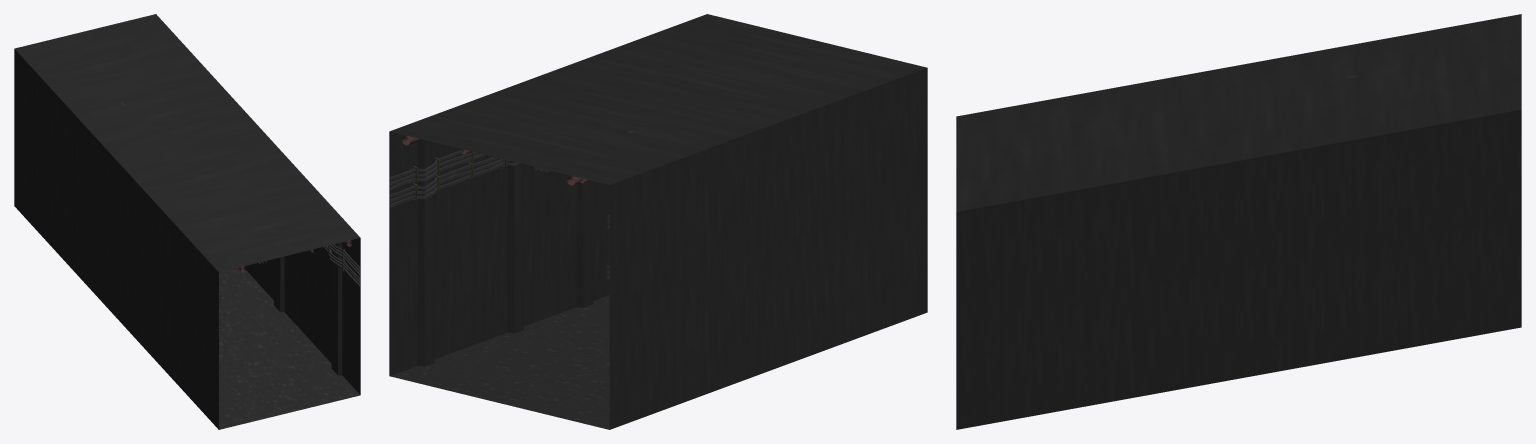
Rendered from SW_ENV_RailTunnel_TrackRise_Single_10m_FF.fbx.
The picture shows the model from 3 angles, left to right: view 1: azimuth 30°, elevation 25°; view 2: azimuth 150°, elevation 25°; view 3: azimuth 270°, elevation 25°; orthographic projection. The views are drawn at different scales.
Parts seen in each view (by area): view 1: SW_ENV_RailTunnel_TrackRise_Single_10m_FF; view 2: SW_ENV_RailTunnel_TrackRise_Single_10m_FF; view 3: SW_ENV_RailTunnel_TrackRise_Single_10m_FF.
Boxes of the visible parts, box(x1,y1,x2,y2) form: SW_ENV_RailTunnel_TrackRise_Single_10m_FF: box(14, 14, 360, 429); SW_ENV_RailTunnel_TrackRise_Single_10m_FF: box(389, 14, 927, 429); SW_ENV_RailTunnel_TrackRise_Single_10m_FF: box(956, 14, 1521, 429).
Bounding box in the file's own units: 4 × 6.25 × 10.
